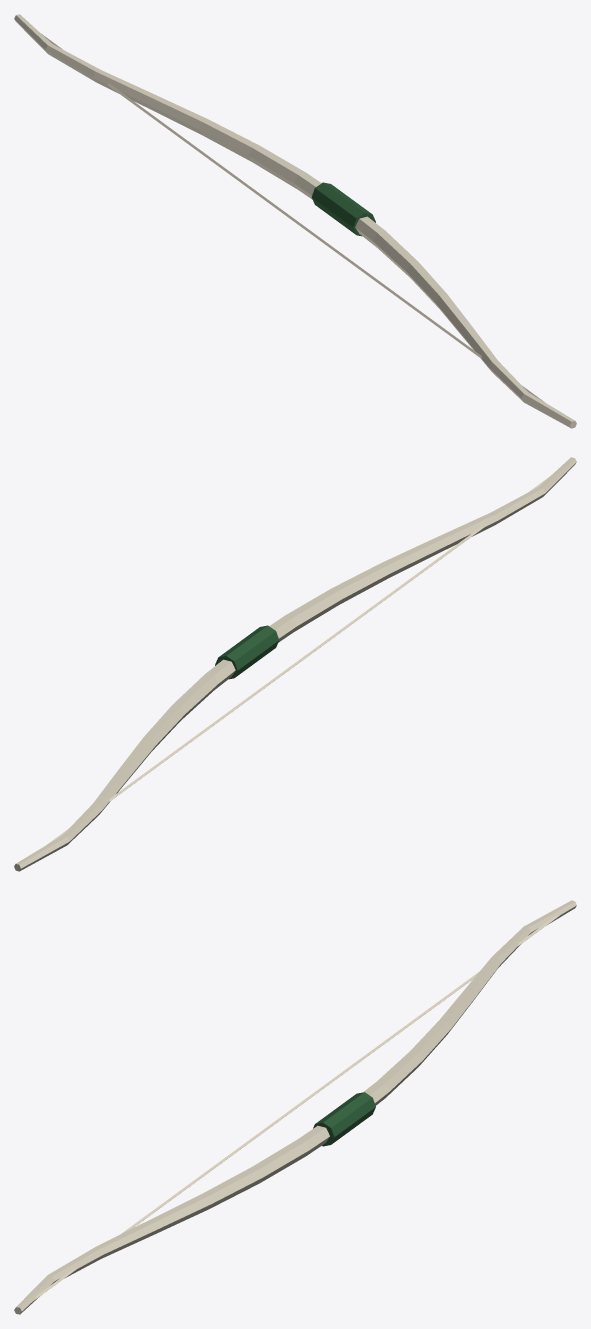
File: g-longbow-elven.glb
3 renders of one model, top to bottom at view 1: azimuth 30°, elevation 25°; view 2: azimuth 150°, elevation 25°; view 3: azimuth 330°, elevation 25°, orthographic.
Parts seen in each view (by area): view 1: g-longbow-elven; view 2: g-longbow-elven; view 3: g-longbow-elven.
Boxes of the visible parts, left/top/right/bottom form: g-longbow-elven: left=14, top=14, right=576, bottom=428; g-longbow-elven: left=14, top=457, right=576, bottom=871; g-longbow-elven: left=14, top=900, right=576, bottom=1314.
Bounding box in the file's own units: 0.1196 × 0.038 × 1.6.
